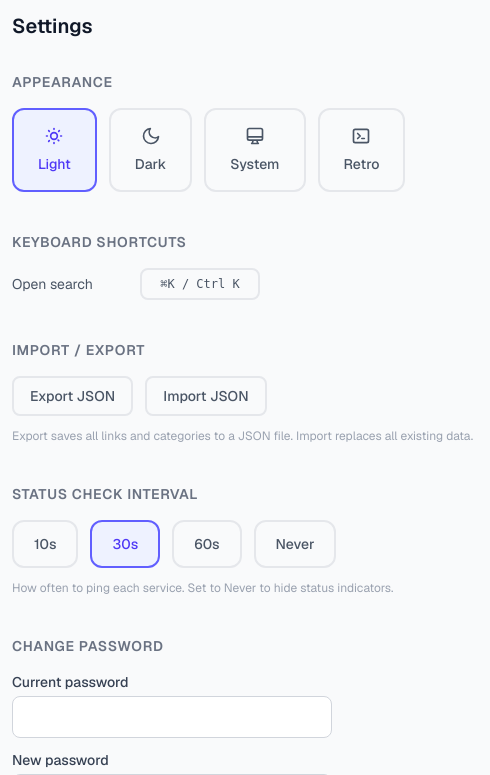
Test: export reports failure › shows a message when the export request fails
Click the button "Export JSON": (73, 396) [12, 376, 133, 416]
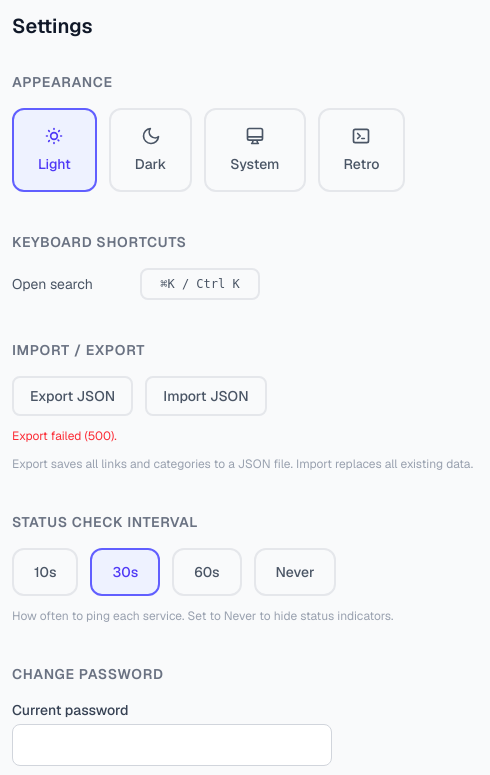
Expected: the text "Export failed (500)." is shown, [12, 428, 117, 444]
